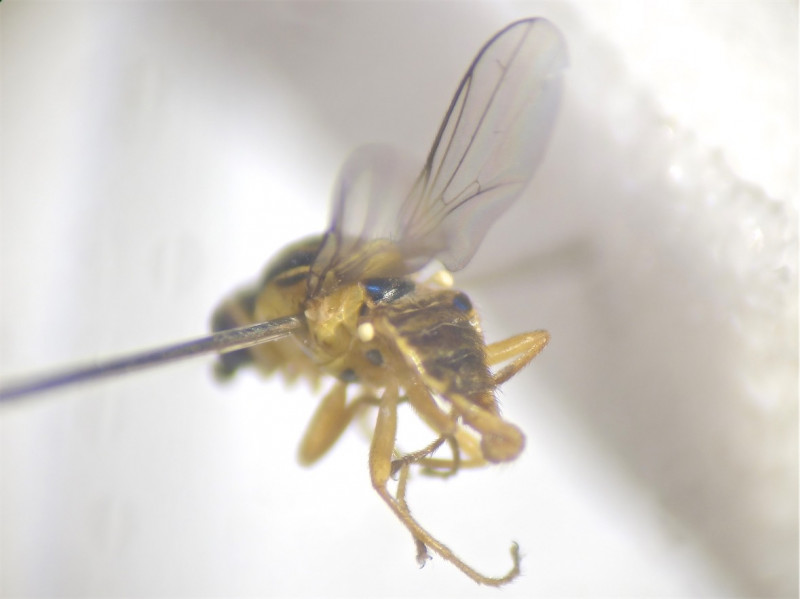Chloropidae: (206, 14, 578, 595)
